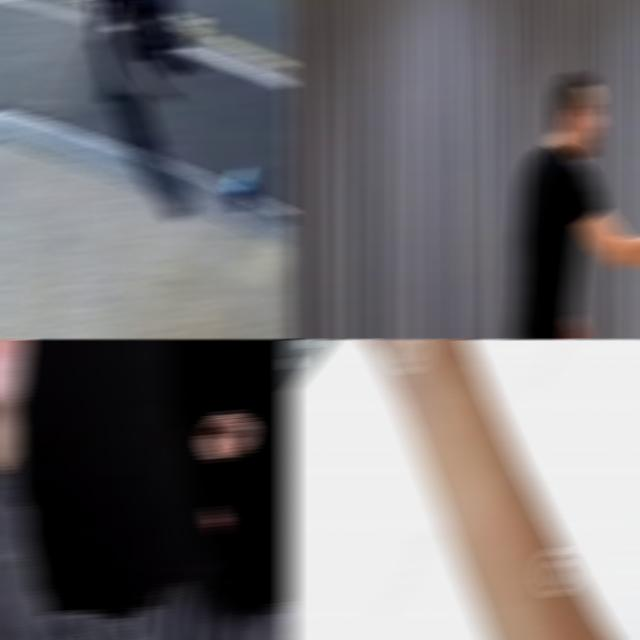Knife_Handle: (284, 339, 522, 524)
